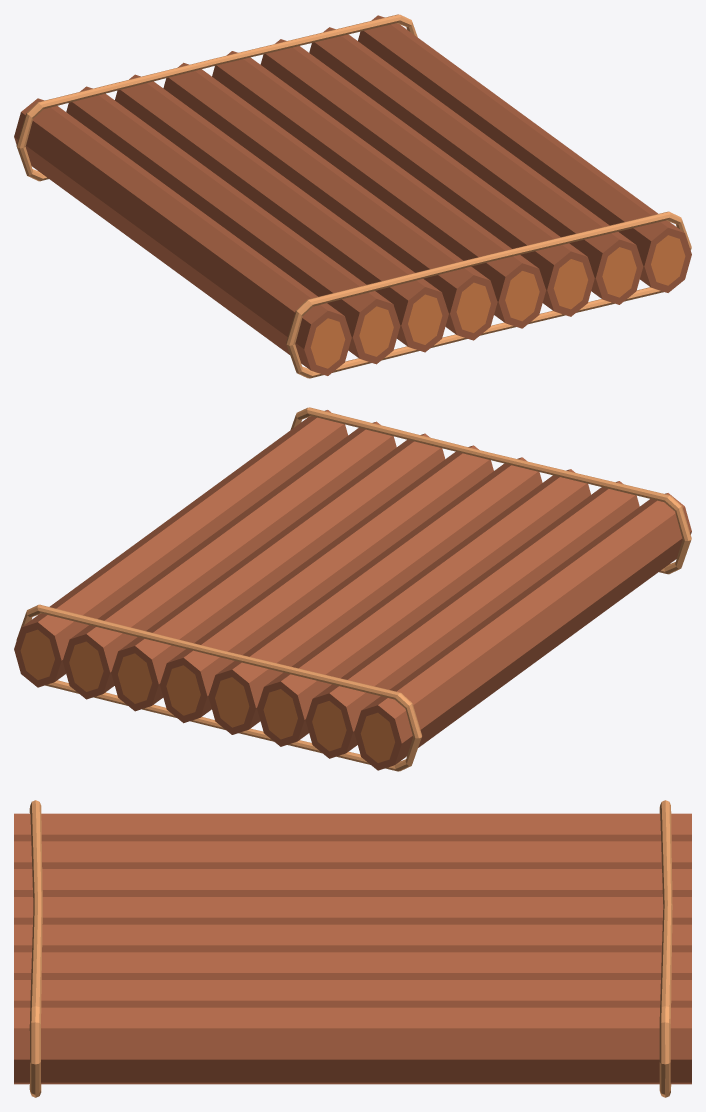
The model's file is Jangada.fbx.
3 renders of one model, top to bottom at view 1: azimuth 30°, elevation 25°; view 2: azimuth 150°, elevation 25°; view 3: azimuth 270°, elevation 25°, orthographic. The views are drawn at different scales.
Parts seen in each view (by area): view 1: Cylinder.026; view 2: Cylinder.026; view 3: Cylinder.026.
Part boxes in pixels (<box>): Cylinder.026: <box>14,14,691,378</box>; Cylinder.026: <box>14,407,691,771</box>; Cylinder.026: <box>14,800,691,1097</box>.
Bounding box in the file's own units: 1.7 × 0.3147 × 2.11.
